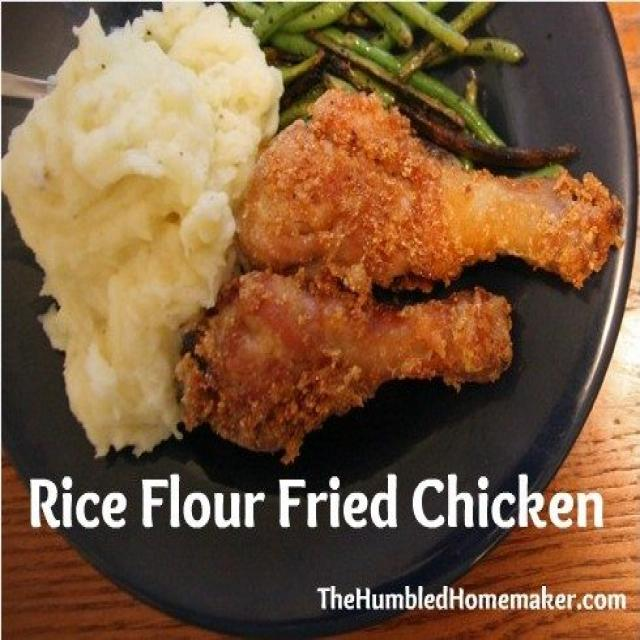Frango: (240, 100, 620, 296), (183, 278, 509, 451)
